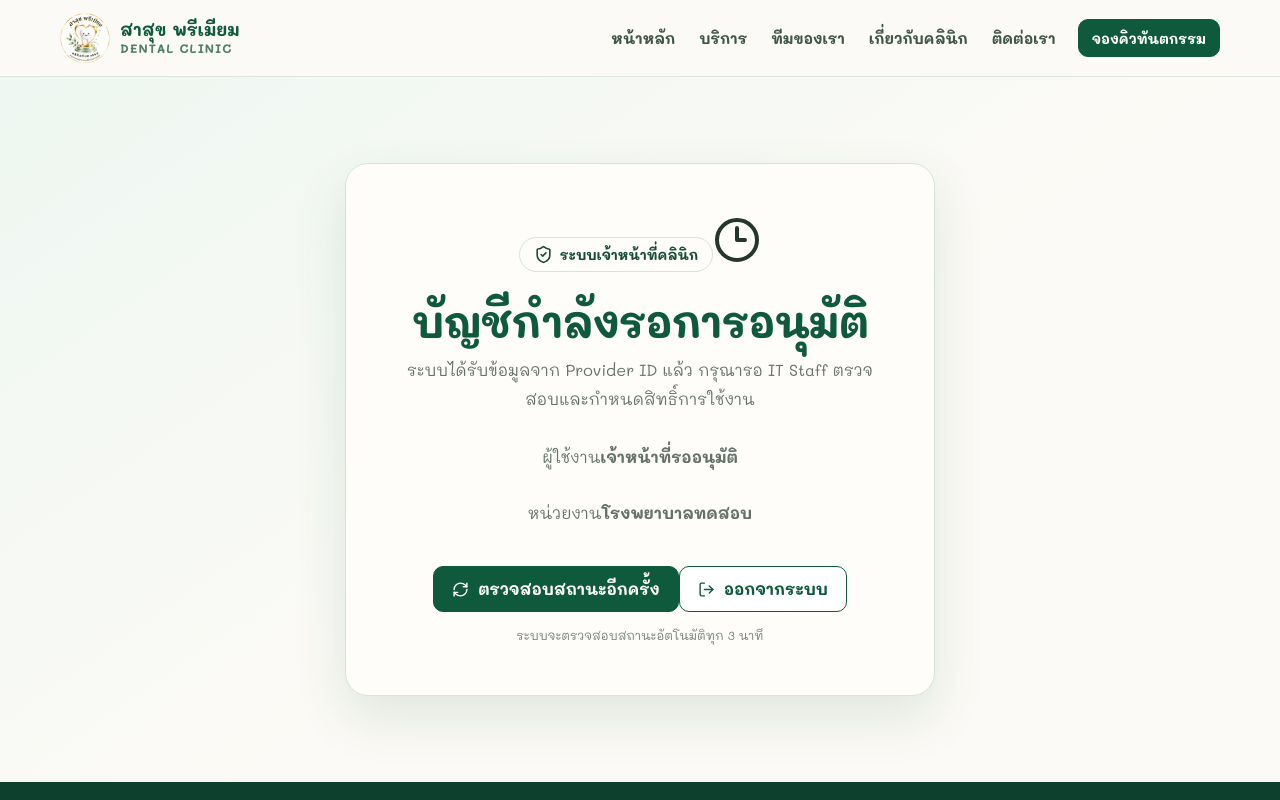
Test: ProviderID staff authentication UI › revokes the server session with its CSRF token when a pending user logs out
What coordinates should you click on to do the following:
click the button "ออกจากระบบ"
I would click on:
 (763, 589)
Its box is [679,566,847,612].
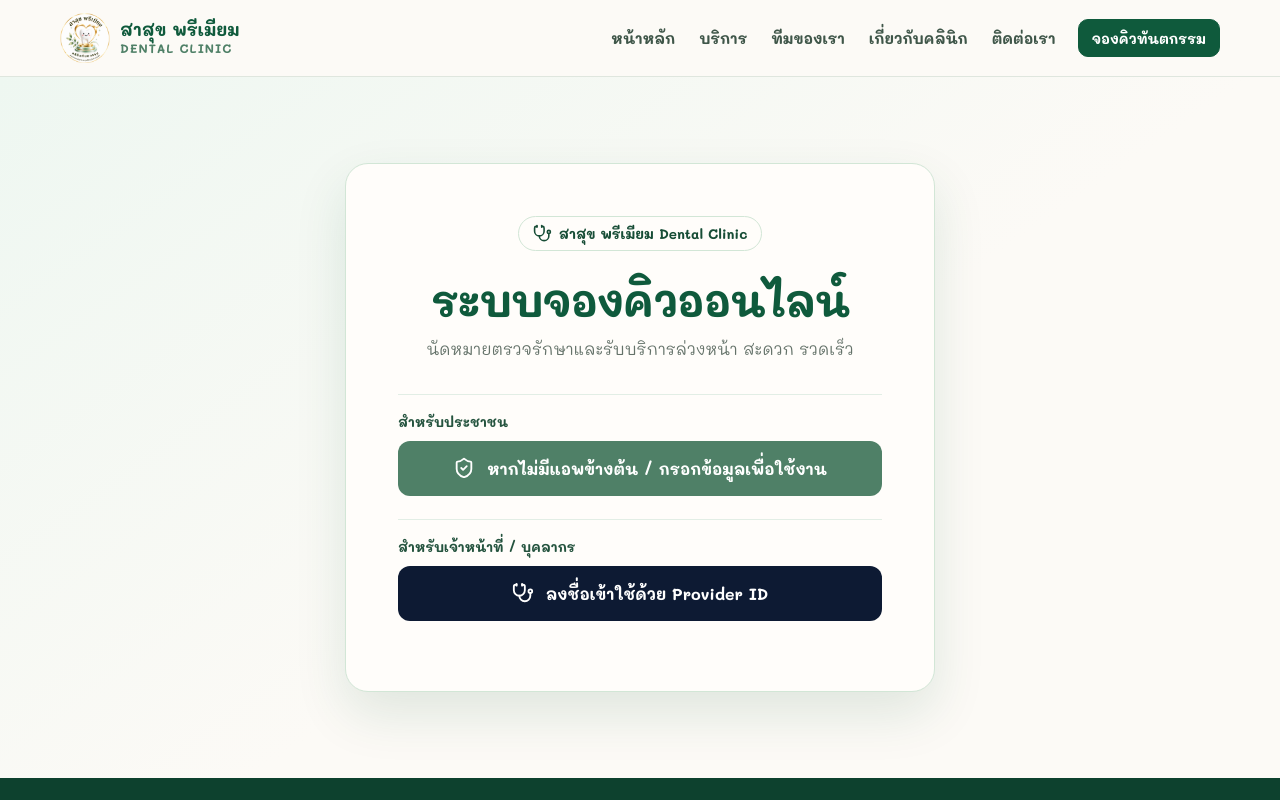
Now the heading "ระบบจองคิวออนไลน์" is shown, box [398,275,882,327]
